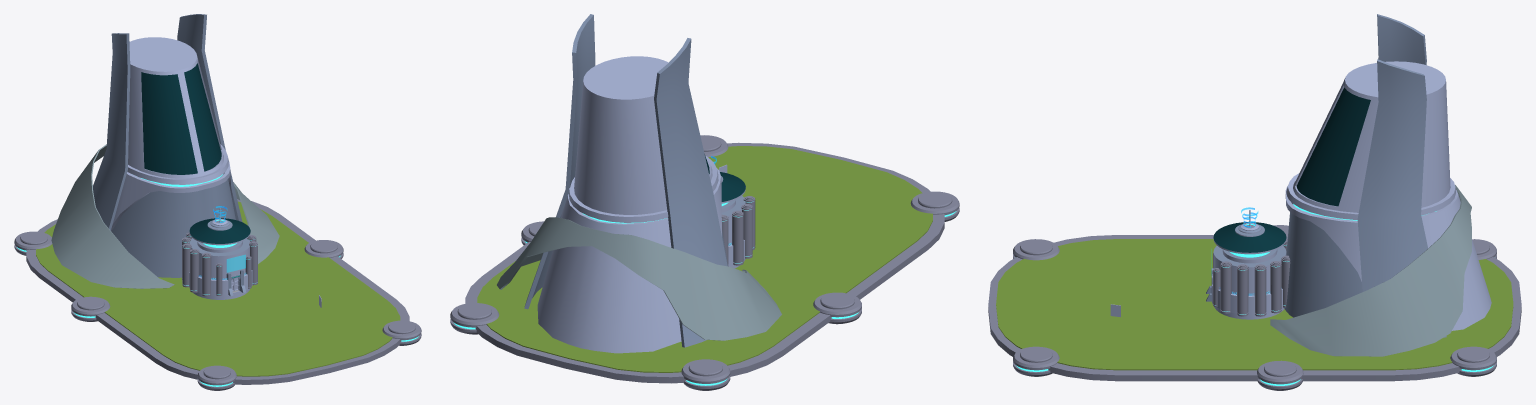
File: Modifs_Blocking HUB.fbx
3 views of the same model, side by side, from view 1: azimuth 30°, elevation 25°; view 2: azimuth 150°, elevation 25°; view 3: azimuth 270°, elevation 25° (orthographic). The views are drawn at different scales.
Parts seen in each view (by area): view 1: TourFinalPart2.002, Terrain.001, Ilot.001, TourPart1.001, MurTourPart1.001; view 2: TourFinalPart2.002, Terrain.001, Ilot.001, MurTourPart1.001, TourPart1.001; view 3: TourFinalPart2.002, Terrain.001, Ilot.001, TourPart1.001, MurTourPart1.001.
Part boxes in pixels (x1=…): TourFinalPart2.002: x1=51, y1=14, x2=279, y2=288; Terrain.001: x1=36, y1=201, x2=400, y2=376; Ilot.001: x1=14, y1=199, x2=421, y2=390; TourPart1.001: x1=189, y1=208, x2=250, y2=299; MurTourPart1.001: x1=182, y1=232, x2=257, y2=296; TourFinalPart2.002: x1=497, y1=14, x2=781, y2=353; Terrain.001: x1=477, y1=146, x2=932, y2=372; Ilot.001: x1=450, y1=135, x2=959, y2=390; MurTourPart1.001: x1=721, y1=196, x2=755, y2=266; TourPart1.001: x1=720, y1=172, x2=745, y2=268; TourFinalPart2.002: x1=1270, y1=14, x2=1491, y2=356; Terrain.001: x1=996, y1=239, x2=1513, y2=370; Ilot.001: x1=988, y1=225, x2=1521, y2=390; TourPart1.001: x1=1213, y1=210, x2=1286, y2=319; MurTourPart1.001: x1=1212, y1=239, x2=1290, y2=316.
Size of the model in its own units: 134 by 112 by 194.
